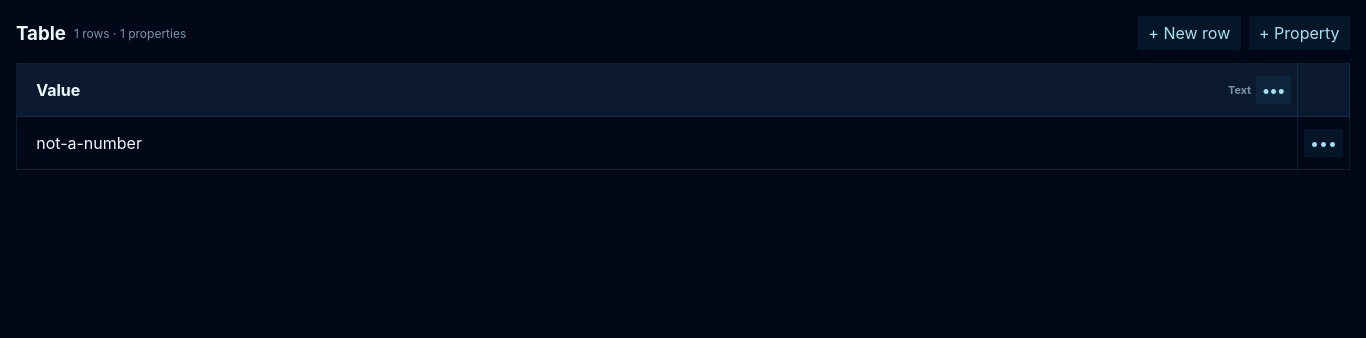
Test case: project workspace modes › changes property types safely and keeps row actions in menus
Click the button named "Value property menu" at coordinates (1274, 90), box x1=1256 y1=76 x2=1291 y2=104
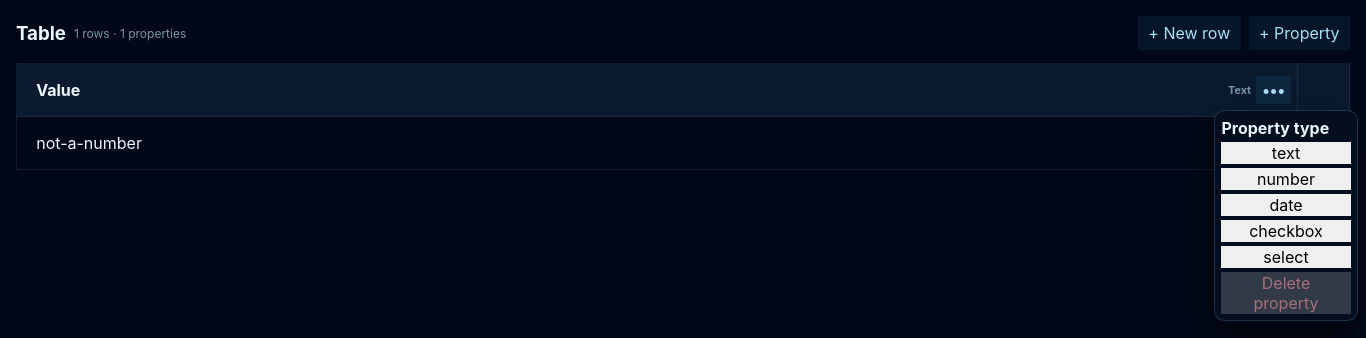
Click the menu item "number" at coordinates (1286, 179), box x1=1221 y1=168 x2=1351 y2=190
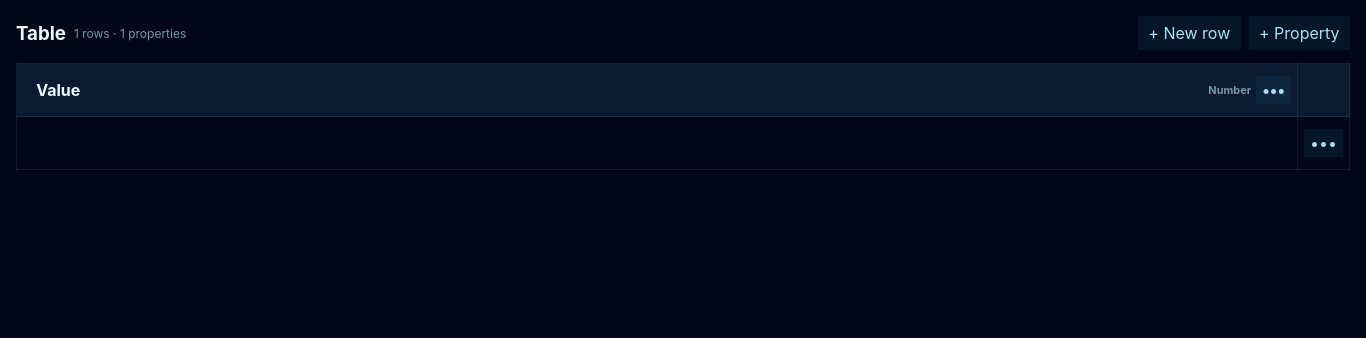
Expected: the number field named "Value row 1" is not empty, x1=23 y1=121 x2=1291 y2=165
Click the button named "Project row 1 menu" at coordinates (1324, 143), box x1=1304 y1=129 x2=1343 y2=157
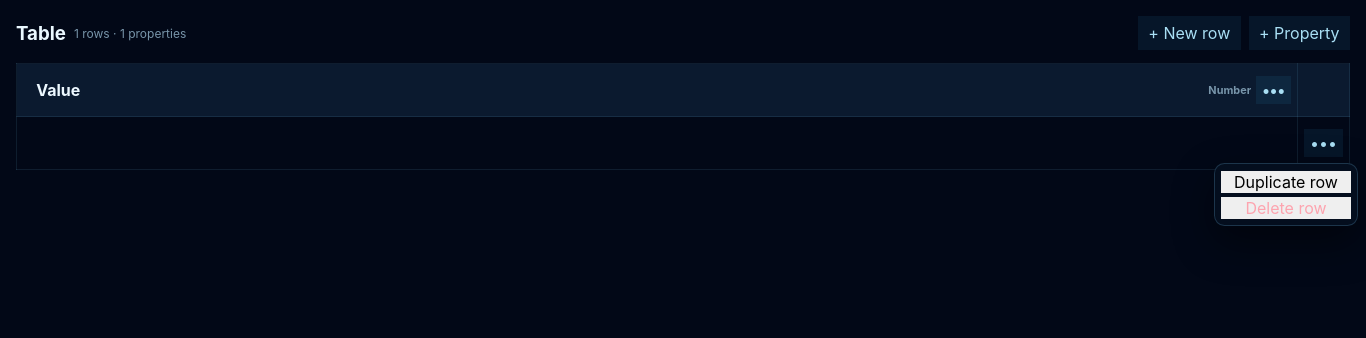
Click the menu item "Duplicate row" at coordinates (1286, 182), box x1=1221 y1=171 x2=1351 y2=193
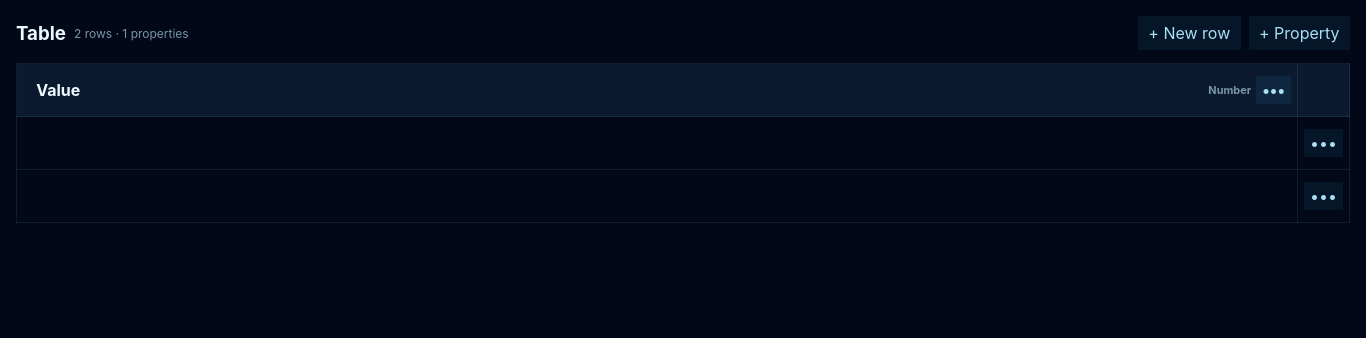
Now the text "2 rows · 1 properties" is shown, box x1=74 y1=26 x2=189 y2=41
